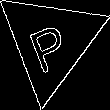P_N: (26, 12, 75, 72)
